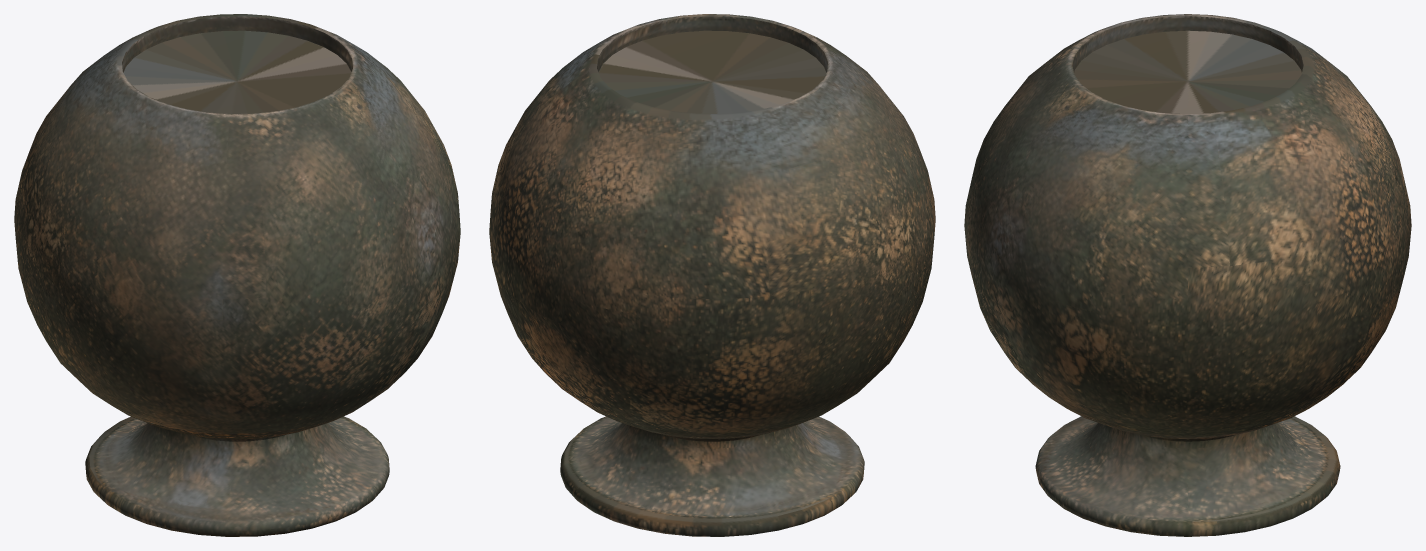
Rendered from Vase.fbx.
The picture shows the model from 3 angles, left to right: view 1: azimuth 30°, elevation 25°; view 2: azimuth 150°, elevation 25°; view 3: azimuth 270°, elevation 25°; orthographic projection.
Parts seen in each view (by area): view 1: Vase_Low; view 2: Vase_Low; view 3: Vase_Low.
Part boxes in pixels (left/top/right/bottom): Vase_Low: left=14, top=14, right=460, bottom=536; Vase_Low: left=489, top=14, right=935, bottom=536; Vase_Low: left=964, top=14, right=1411, bottom=536.
Size of the model in its own units: 0.9572 by 0.9658 by 0.9572.
